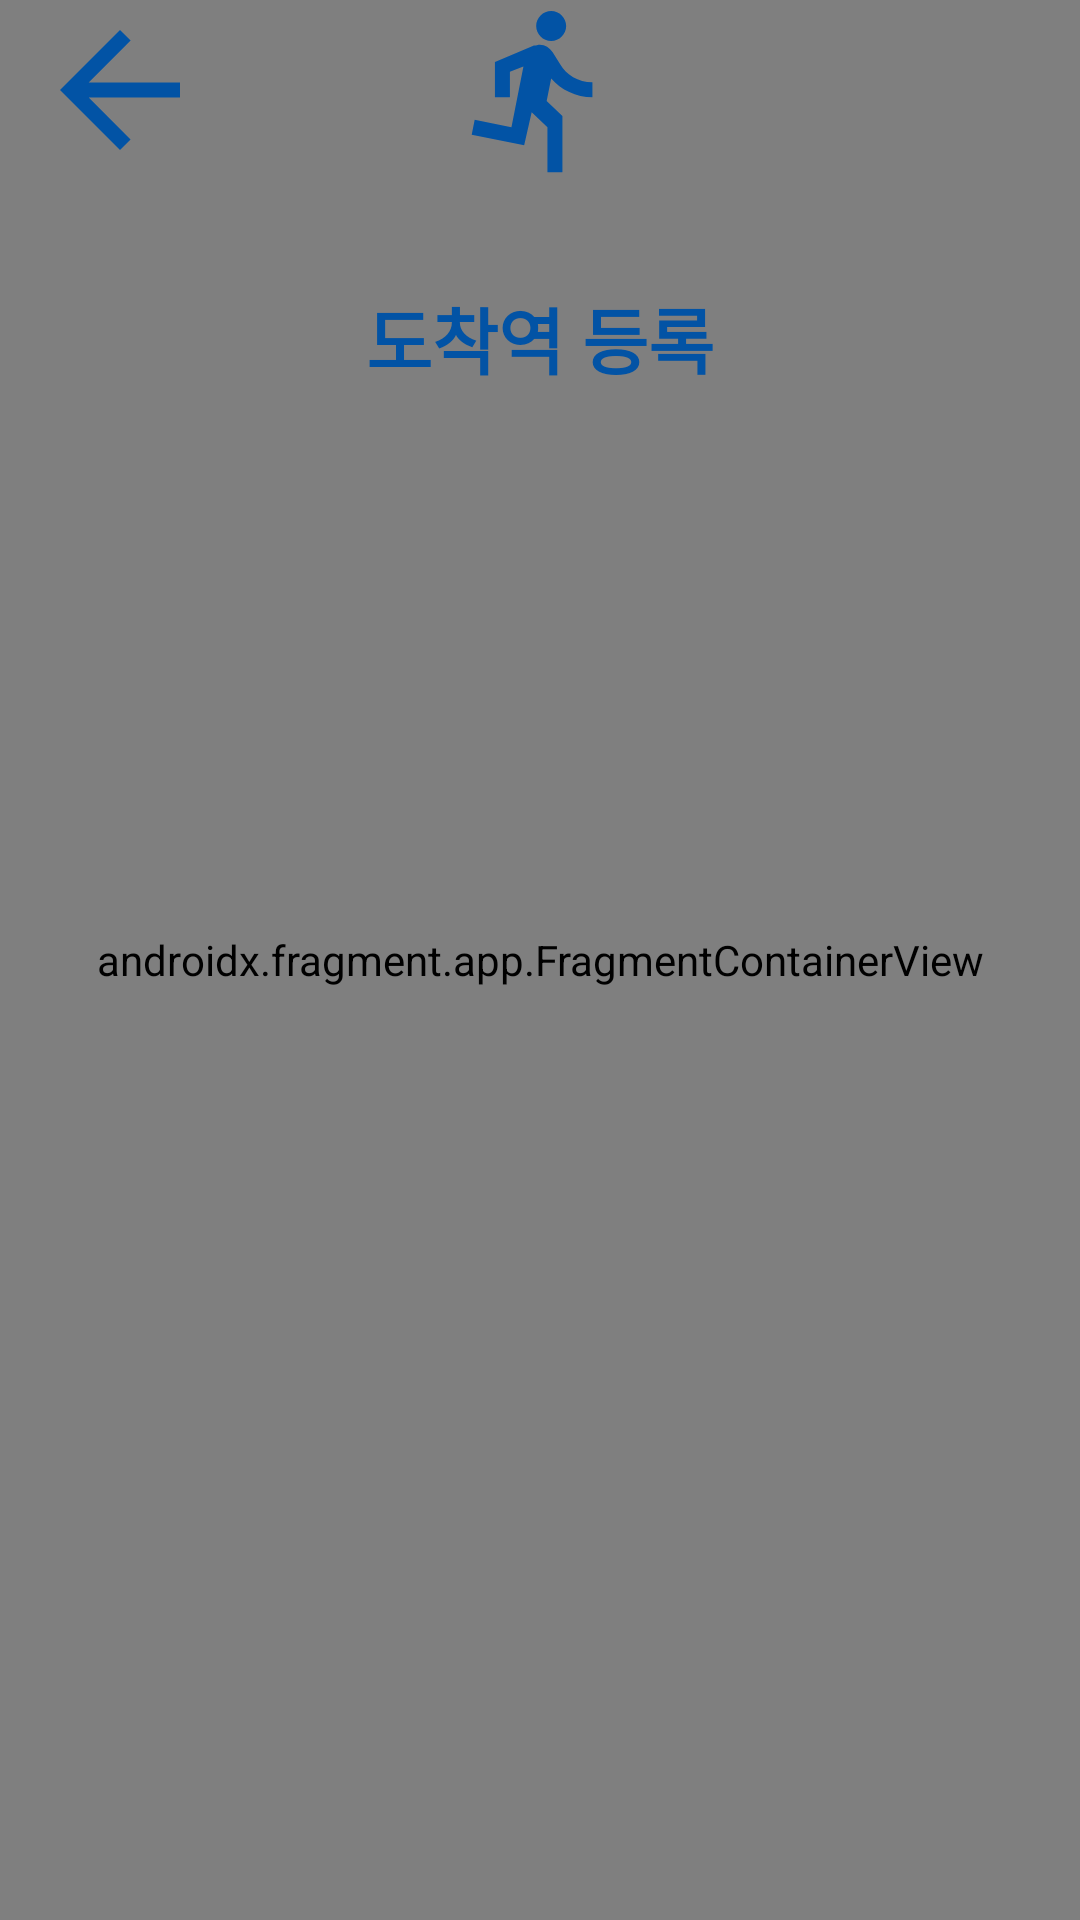

Screen size 1080 x 1920. Icon name, then its center in pixels as point (x, y):
directions run: point (532, 92)
